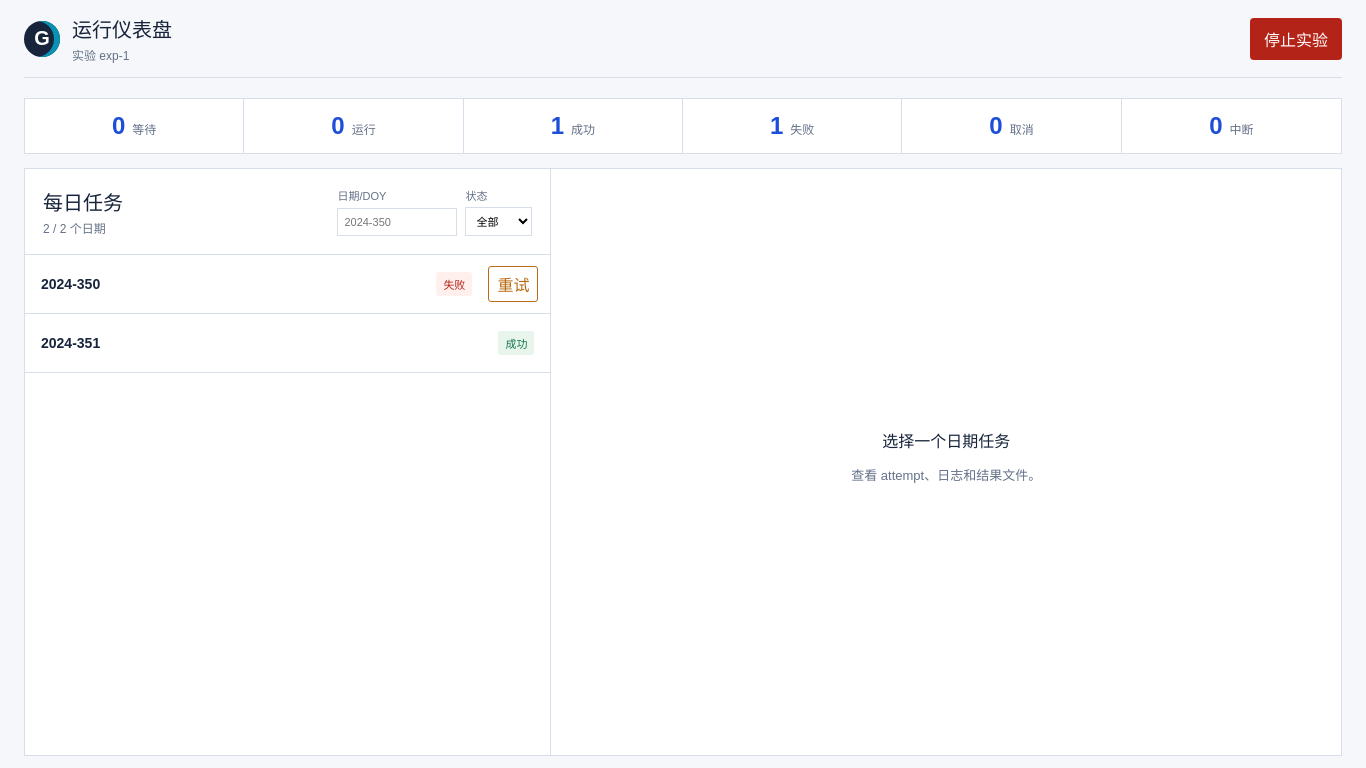
Test: RunDashboard › shows an explicit empty result state
Click the button with aria-label "查看 2024-351" at (57, 343), box [25,314,550,372]
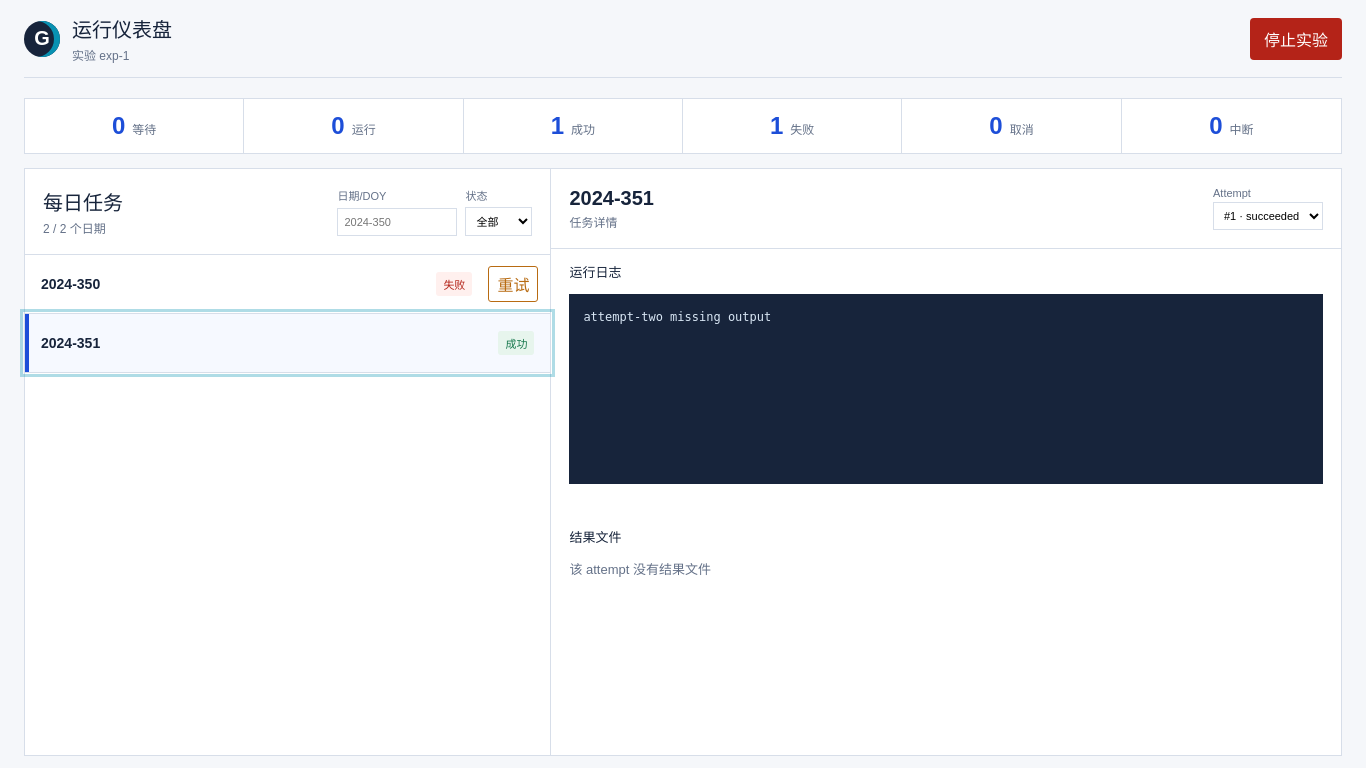
expect the text "该 attempt 没有结果文件" is shown: met, box [569,562,711,577]
